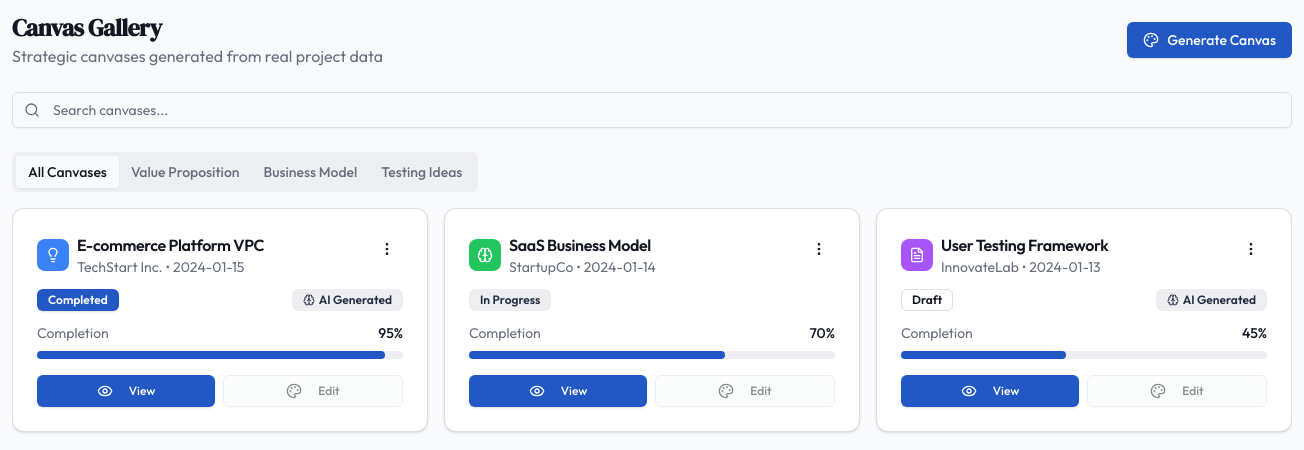
Test case: CanvasGallery › Search Functionality › filters canvases by search term
Type "E-commerce" into the field with placeholder "Search canvases...".
click(652, 110); type("E-commerce")  # box [12,92,1292,128]
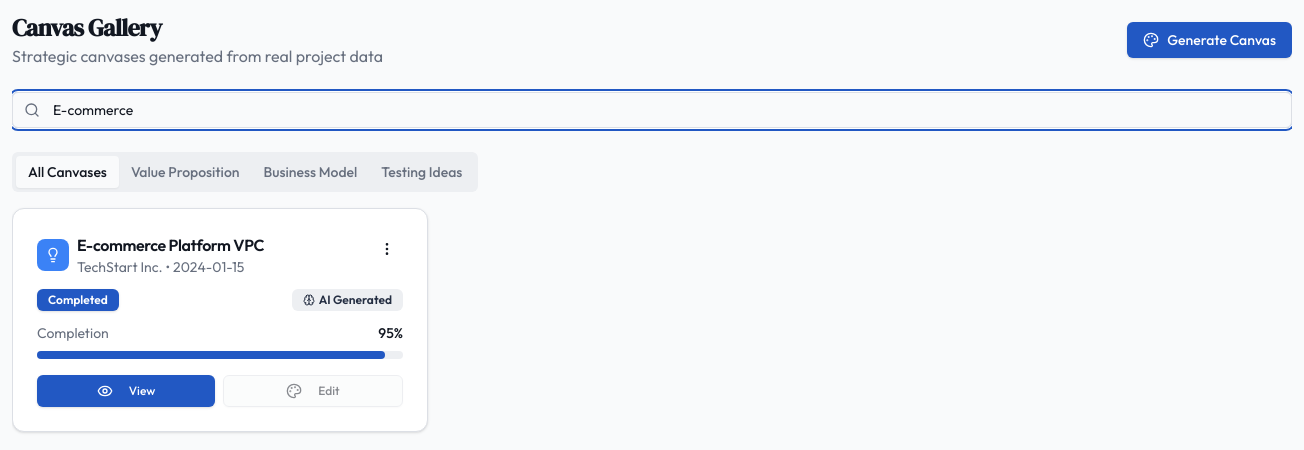
Check: the text "E-commerce Platform VPC" is shown, box [77,233,264,257]
Check: the text "SaaS Business Model" is gone
Check: the text "User Testing Framework" is gone
